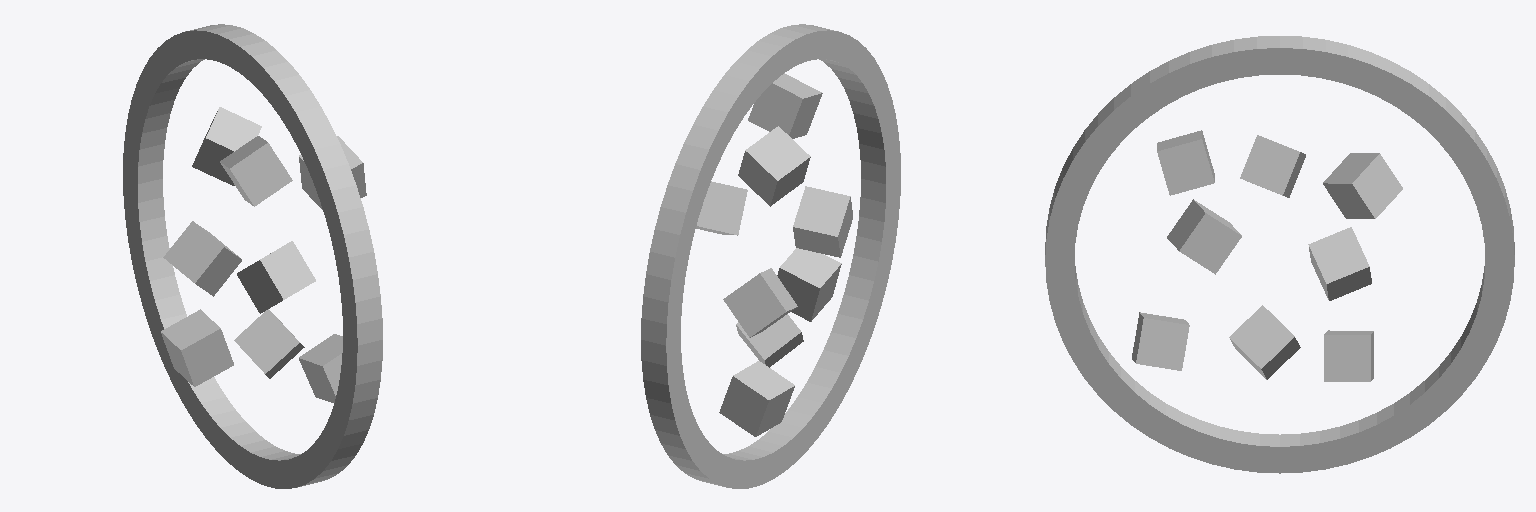
Rendered from ShotgunPU.obj.
3 renders of one model, left to right at view 1: azimuth 30°, elevation 25°; view 2: azimuth 150°, elevation 25°; view 3: azimuth 270°, elevation 25°, orthographic.
Parts seen in each view (by area): view 1: Frame_Cylinder, ShotgunShell.007_Cube.010, ShotgunShell.001_Cube.004, ShotgunShell.003_Cube.006, ShotgunShell_Cube.003, ShotgunShell.002_Cube.005, ShotgunShell.004_Cube.007, ShotgunShell.006_Cube.009, ShotgunShell.005_Cube.008; view 2: Frame_Cylinder, ShotgunShell.007_Cube.010, ShotgunShell_Cube.003, ShotgunShell.001_Cube.004, ShotgunShell.005_Cube.008, ShotgunShell.006_Cube.009, ShotgunShell.003_Cube.006, ShotgunShell.004_Cube.007, ShotgunShell.002_Cube.005; view 3: Frame_Cylinder, ShotgunShell.004_Cube.007, ShotgunShell.001_Cube.004, ShotgunShell.003_Cube.006, ShotgunShell.002_Cube.005, ShotgunShell.005_Cube.008, ShotgunShell.006_Cube.009, ShotgunShell.007_Cube.010, ShotgunShell_Cube.003.
Part boxes in pixels (x1,y1,x2,y2): Frame_Cylinder: (123,24,382,488); ShotgunShell.007_Cube.010: (161,309,233,386); ShotgunShell.001_Cube.004: (237,241,315,313); ShotgunShell.003_Cube.006: (163,221,241,296); ShotgunShell_Cube.003: (220,136,292,206); ShotgunShell.002_Cube.005: (234,309,304,378); ShotgunShell.004_Cube.007: (192,107,261,185); ShotgunShell.006_Cube.009: (299,334,342,402); ShotgunShell.005_Cube.008: (299,136,366,209); Frame_Cylinder: (641,24,900,488); ShotgunShell.007_Cube.010: (719,361,794,436); ShotgunShell_Cube.003: (738,126,810,206); ShotgunShell.001_Cube.004: (793,186,852,257); ShotgunShell.005_Cube.008: (748,73,822,138); ShotgunShell.006_Cube.009: (777,248,841,321); ShotgunShell.003_Cube.006: (723,268,797,337); ShotgunShell.004_Cube.007: (696,181,747,235); ShotgunShell.002_Cube.005: (736,314,803,367); Frame_Cylinder: (1045,36,1514,473); ShotgunShell.004_Cube.007: (1323,153,1402,218); ShotgunShell.001_Cube.004: (1167,199,1241,274); ShotgunShell.003_Cube.006: (1308,227,1371,300); ShotgunShell.002_Cube.005: (1229,305,1300,379); ShotgunShell.005_Cube.008: (1157,130,1214,195); ShotgunShell.006_Cube.009: (1132,312,1189,370); ShotgunShell.007_Cube.010: (1324,330,1373,381); ShotgunShell_Cube.003: (1240,135,1305,197).
Bounding box in the file's own units: 43.77 × 160 × 160.